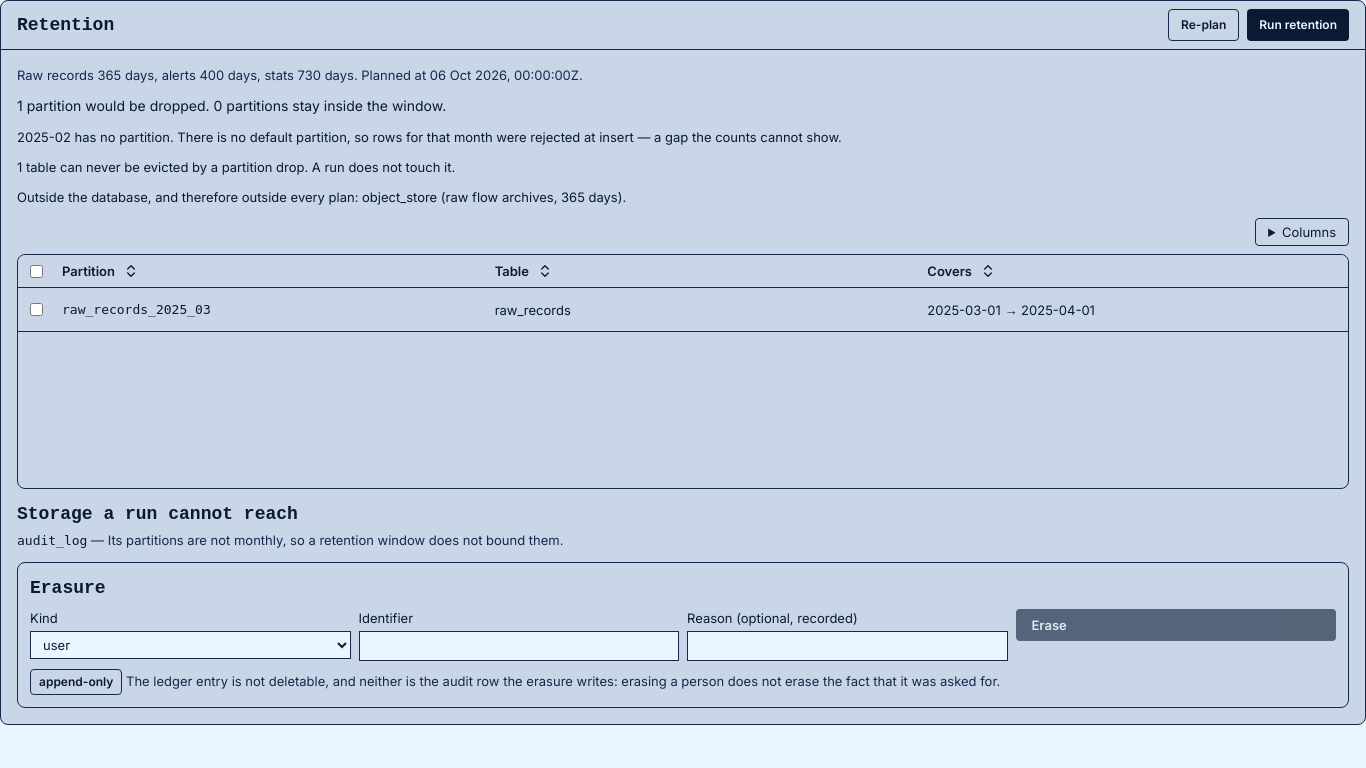
Test: RetentionPanel › sends an erasure and reports the tombstone, never the identifier
The image size is (1366, 768).
In the field labelled "Identifier": (519, 646) 358,631 -> 679,661, type "someone@example.test"
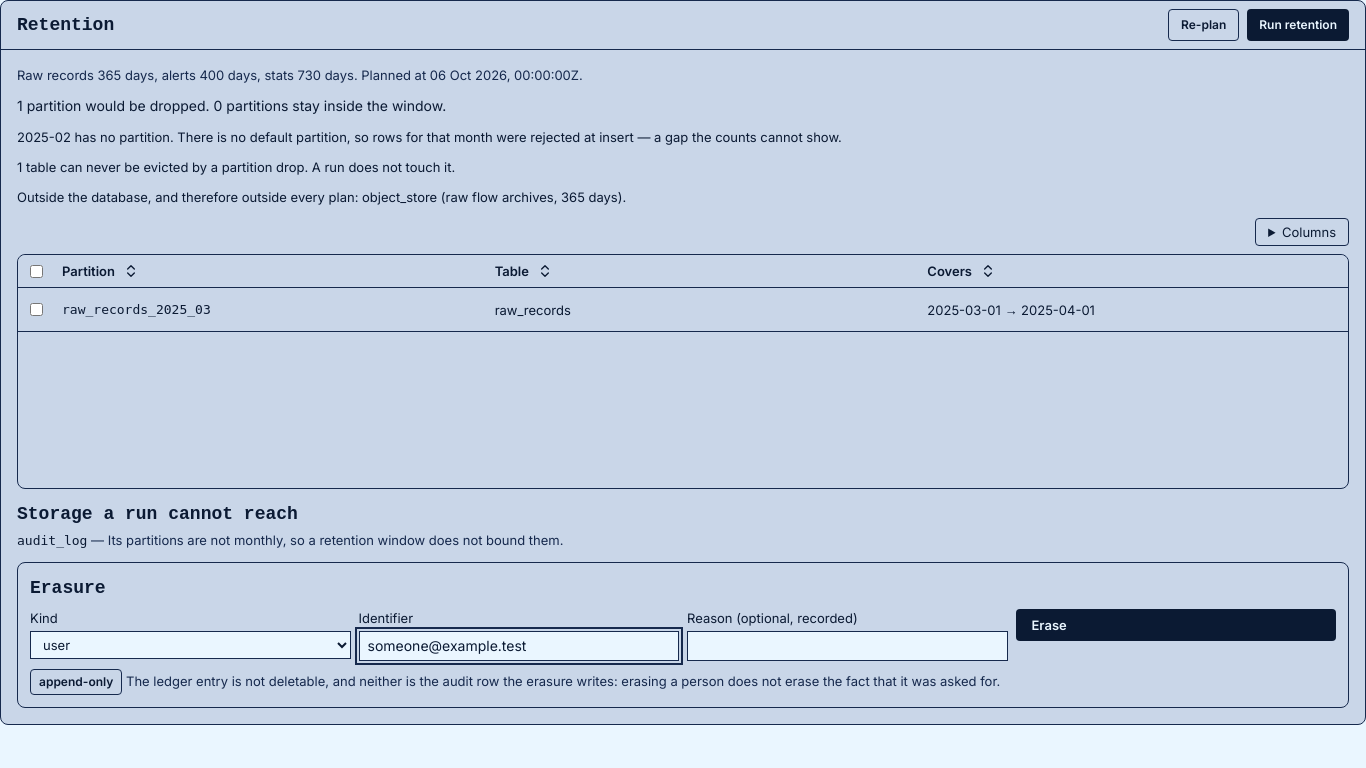
In the field labelled "Reason (optional, recorded)": (847, 646) 687,631 -> 1008,661, type "request 42"
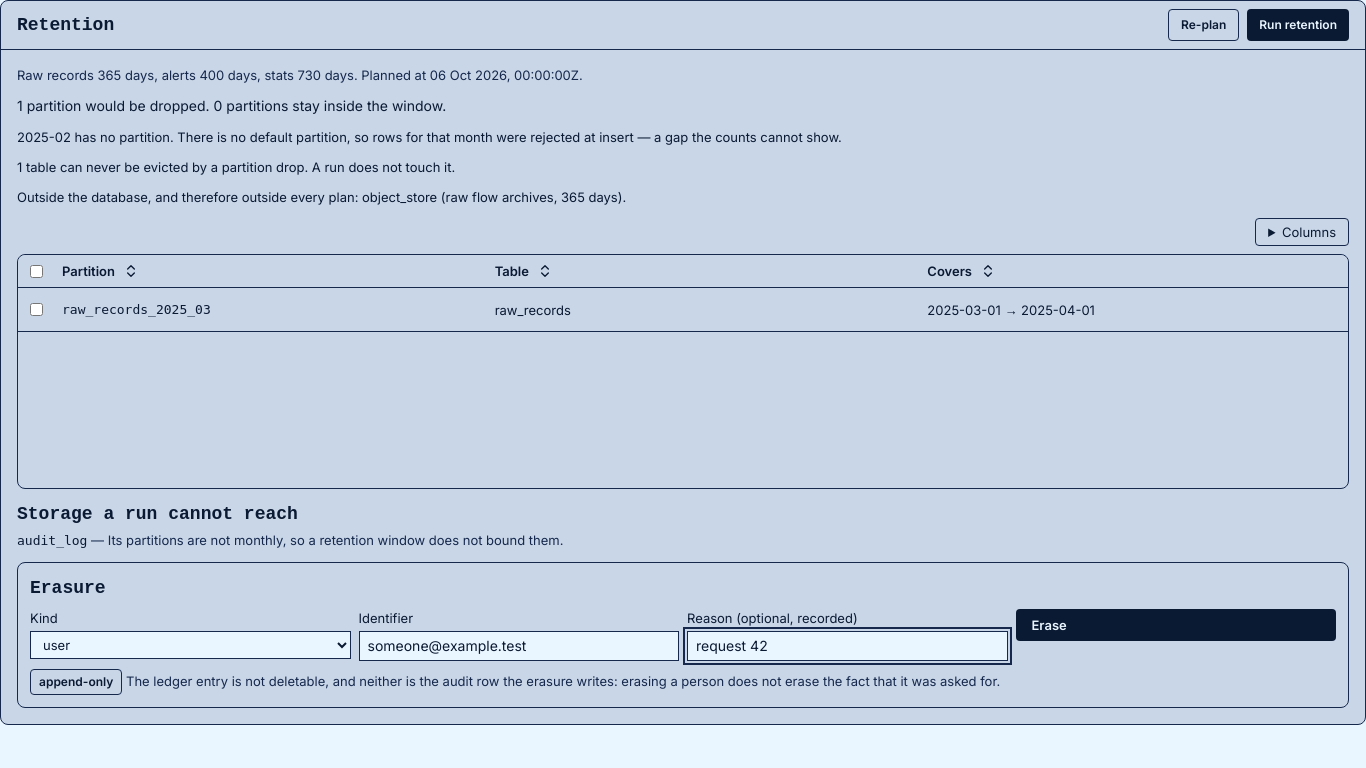
Click the button "Erase": (1049, 625) 1016,609 -> 1336,641
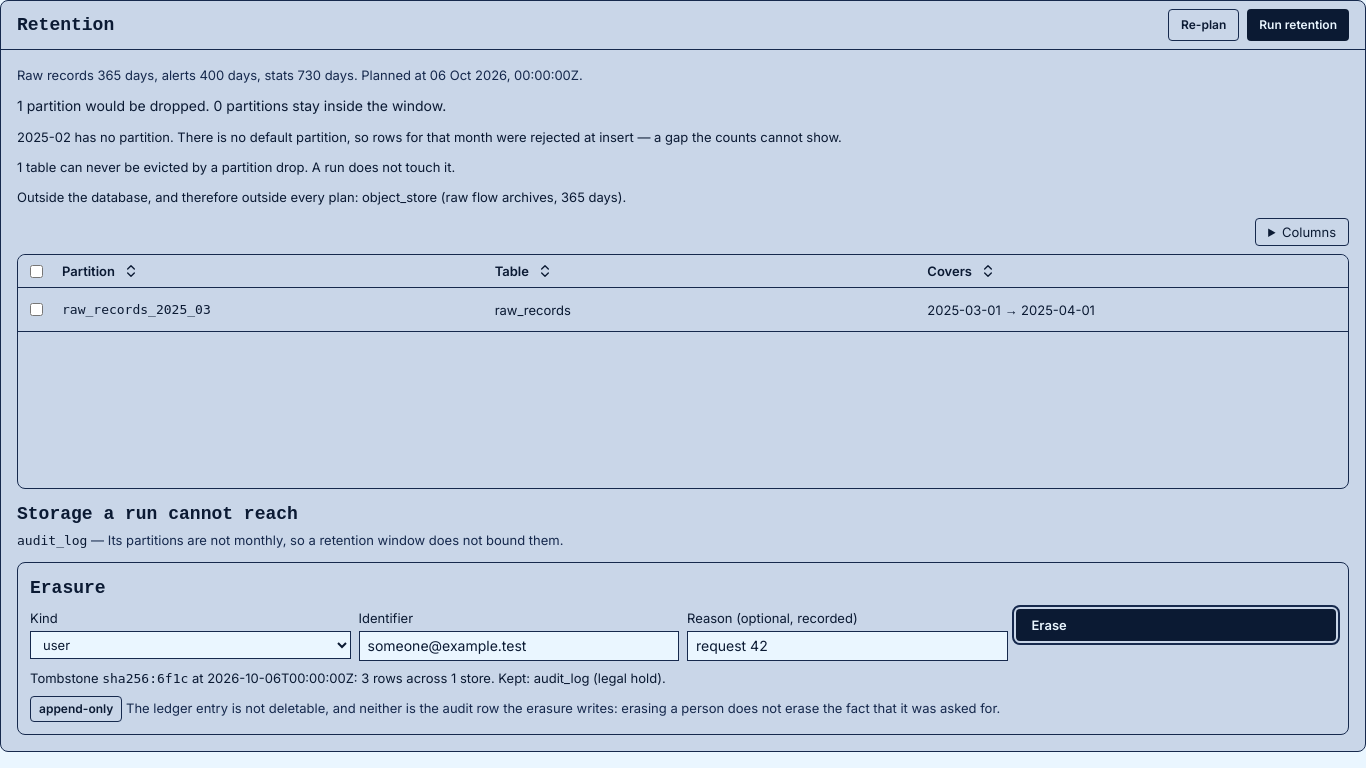
expect the text "Tombstone" shows "sha256:6f1c": met, box 102,671 -> 188,686
expect the text "Tombstone" shows "3 rows across 1 store": met, box 30,670 -> 666,686
expect the text "Tombstone" shows "Kept: audit_log (legal hold)": met, box 498,670 -> 666,686
